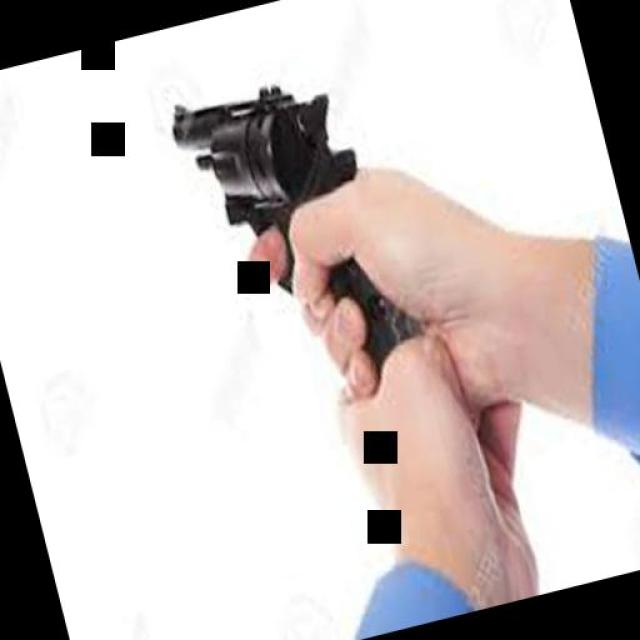gun: (160, 50, 435, 402)
